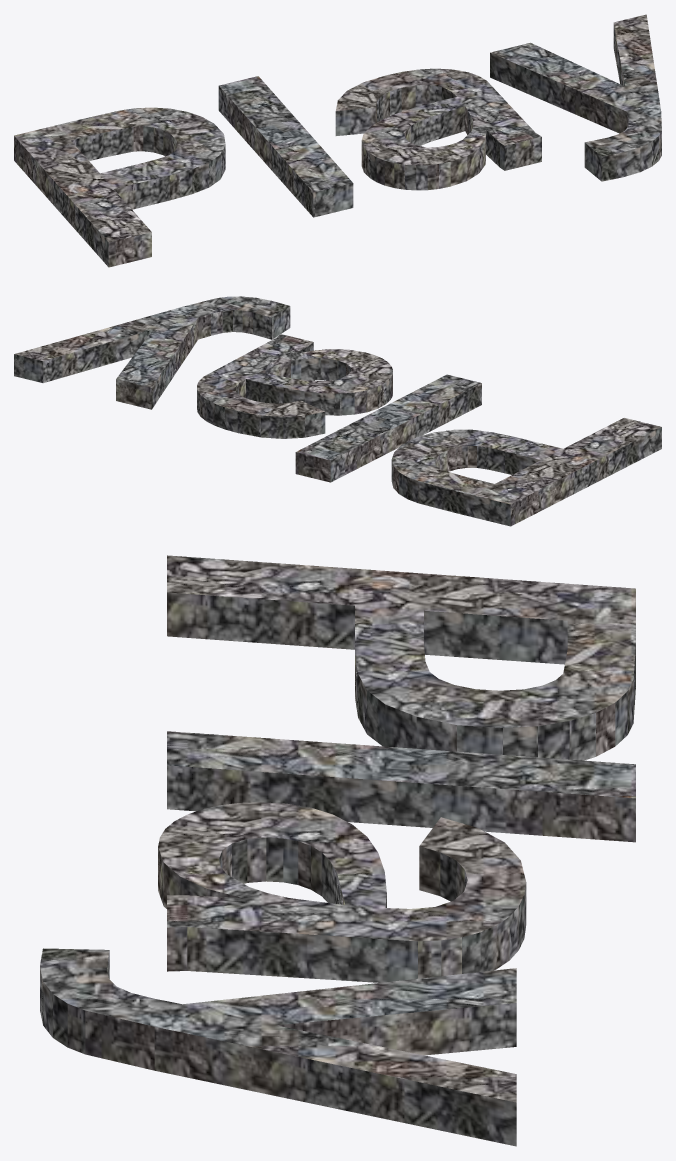
File: play.dae
3 views of the same model, one above another, from view 1: azimuth 30°, elevation 25°; view 2: azimuth 150°, elevation 25°; view 3: azimuth 270°, elevation 25° (orthographic). The views are drawn at different scales.
Visible parts, largest first — view 1: Play (×6); view 2: Play (×6); view 3: Play (×6).
Part boxes in pixels (x1=…): Play (×6): x1=14, y1=14, x2=661, y2=267; Play (×6): x1=14, y1=296, x2=661, y2=526; Play (×6): x1=40, y1=555, x2=635, y2=1146.
Bounding box in the file's own units: 26.27 × 12.1 × 0.9843.
